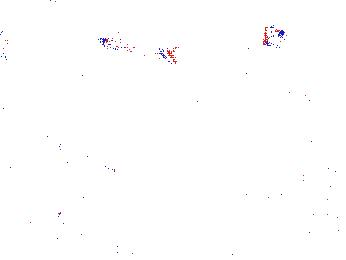X-ray fish: (84, 238, 133, 260)
glassfish: (35, 132, 141, 192)
red belly glassfish: (263, 24, 288, 45)
redtail glassfish: (97, 35, 179, 66), (1, 29, 21, 64)
